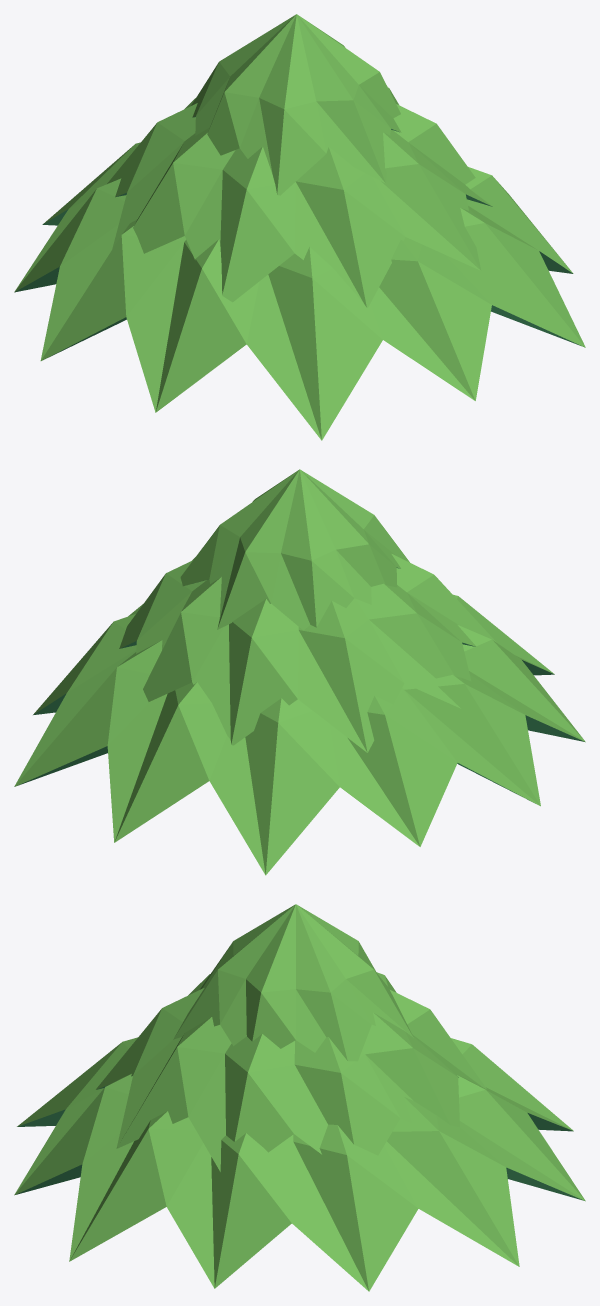
The model's file is bush.glb.
The picture shows the model from 3 angles, top to bottom: view 1: azimuth 30°, elevation 25°; view 2: azimuth 150°, elevation 25°; view 3: azimuth 270°, elevation 25°; orthographic projection. The views are drawn at different scales.
Visible parts, largest first — view 1: leaf_lit, leaf_shade; view 2: leaf_lit, leaf_shade; view 3: leaf_lit, leaf_shade.
Part boxes in pixels (x1,y1,x2,y2): leaf_lit: (14, 14, 585, 440); leaf_shade: (14, 116, 584, 357); leaf_lit: (14, 469, 585, 875); leaf_shade: (17, 567, 584, 803); leaf_lit: (14, 904, 585, 1291); leaf_shade: (15, 1075, 584, 1200).
Size of the model in its own units: 2.26 by 1.27 by 2.36.
